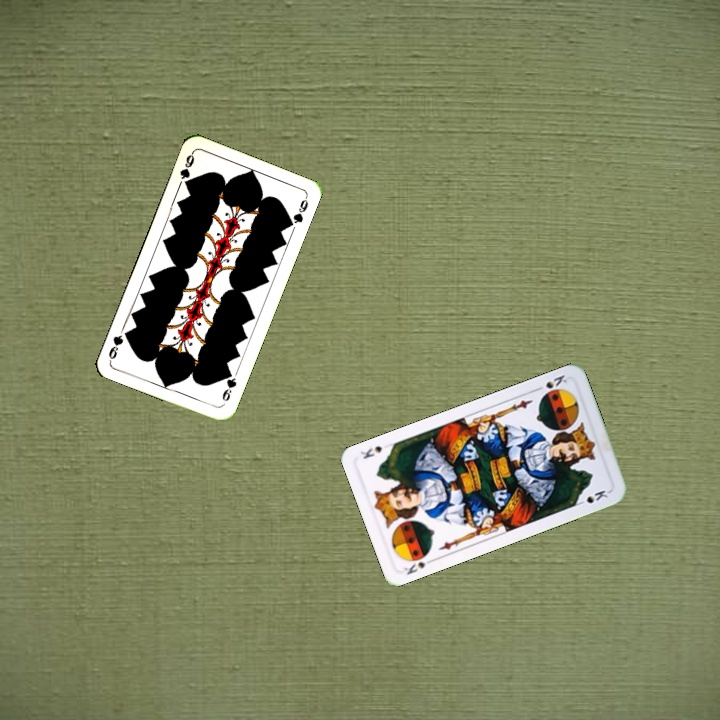G9: (176, 148, 197, 190), (218, 367, 239, 404)
SK: (531, 371, 570, 398), (400, 549, 437, 577)
